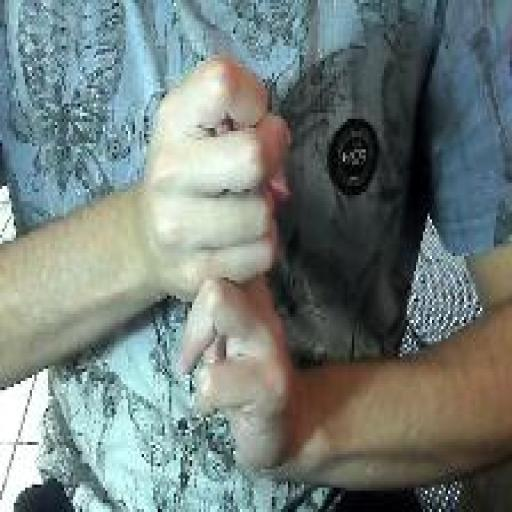Ne -rat-: (138, 52, 303, 478)
